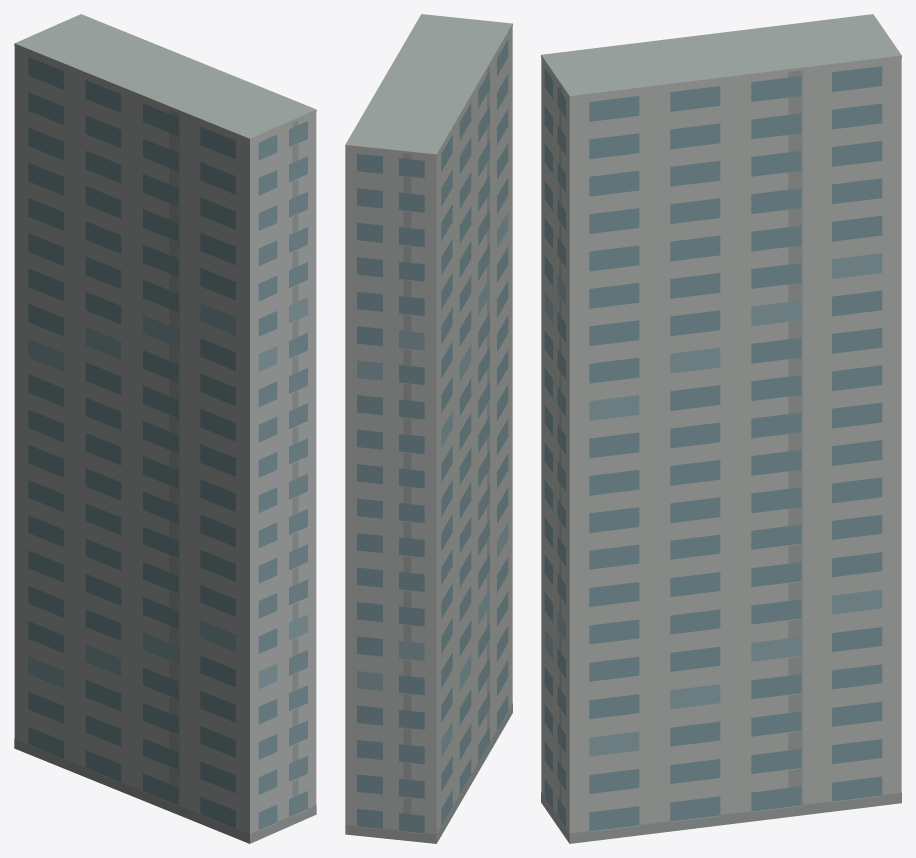
Rendered from residential-a09ed62d-5d5a-404d-9591-5968cbd1d5aa.glb.
The picture shows the model from 3 angles, left to right: view 1: azimuth 30°, elevation 25°; view 2: azimuth 150°, elevation 25°; view 3: azimuth 270°, elevation 25°; orthographic projection. The views are drawn at different scales.
Parts seen in each view (by area): view 1: residential-a09ed62d-5d5a-404d-9591-5968cbd1d5aa.tmp; view 2: residential-a09ed62d-5d5a-404d-9591-5968cbd1d5aa.tmp; view 3: residential-a09ed62d-5d5a-404d-9591-5968cbd1d5aa.tmp.
Boxes of the visible parts, left/top/right/bottom form: residential-a09ed62d-5d5a-404d-9591-5968cbd1d5aa.tmp: left=14, top=14, right=316, bottom=843; residential-a09ed62d-5d5a-404d-9591-5968cbd1d5aa.tmp: left=345, top=14, right=512, bottom=843; residential-a09ed62d-5d5a-404d-9591-5968cbd1d5aa.tmp: left=541, top=14, right=901, bottom=843.
Bounding box in the file's own units: 15.8 × 67 × 29.3.
